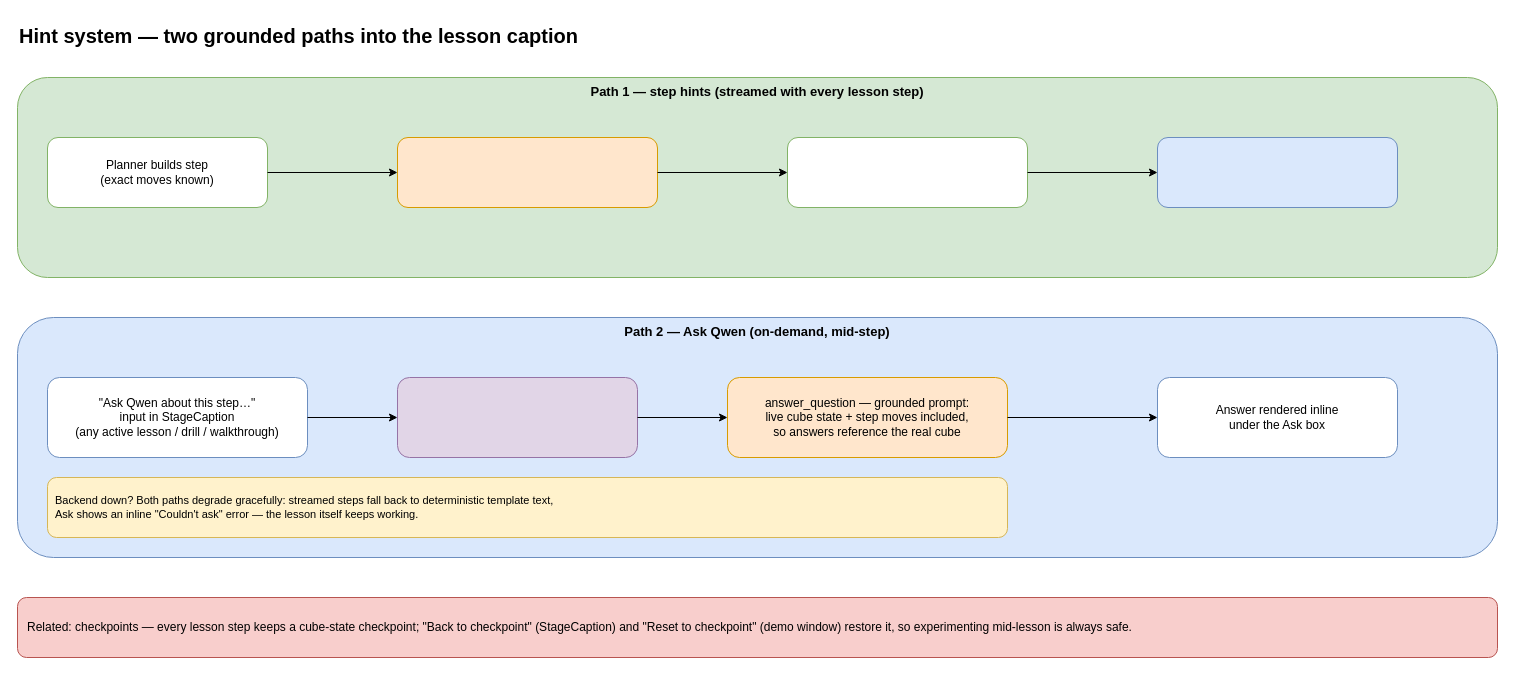
The diagram is 1515 pixels wide and 675 high, and some of its shapes have lost their labels. The centre of each missing label's shape, as x and y in pixels:
POST /ask {question, facelets, level, current step context}: point (517, 417)
Qwen narrates the frame → FrameNarration.hints (validated against frame moves): point (527, 172)
SSE step event {title, body, hints[], moves}: point (907, 172)
StageCaption hint box (shown under the step body): point (1277, 172)
